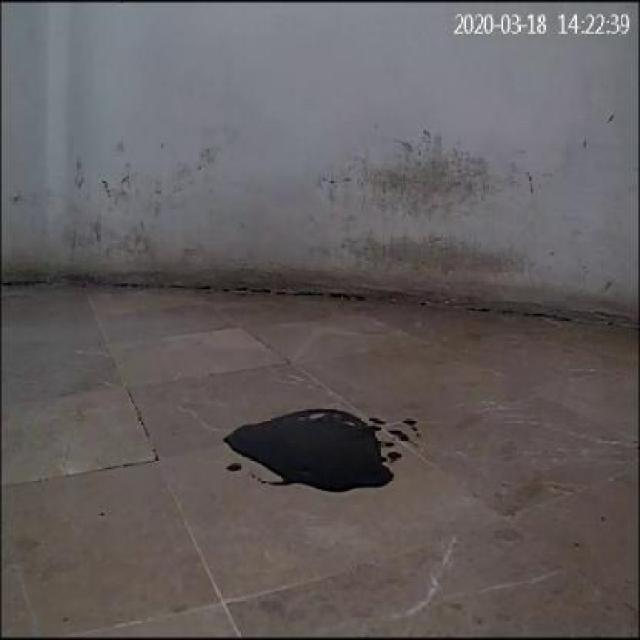spill: (224, 405, 401, 490)
